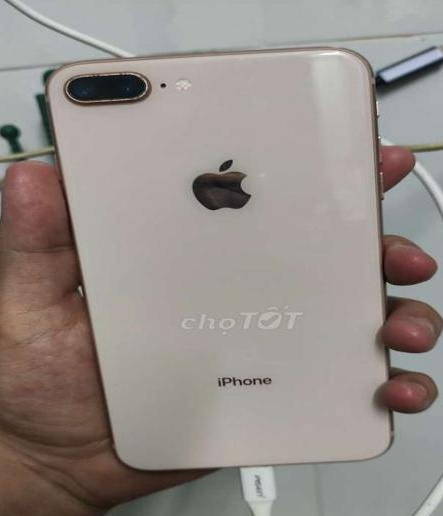scratch: (59, 66, 159, 104)
